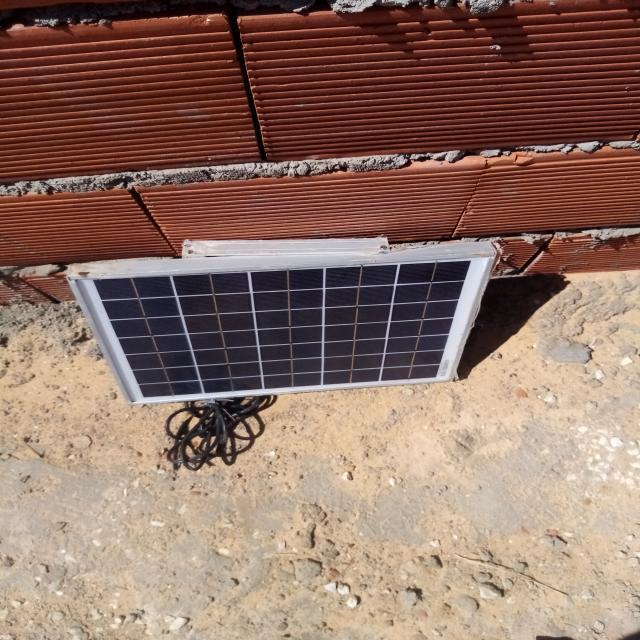no faulty: (71, 255, 493, 405)
